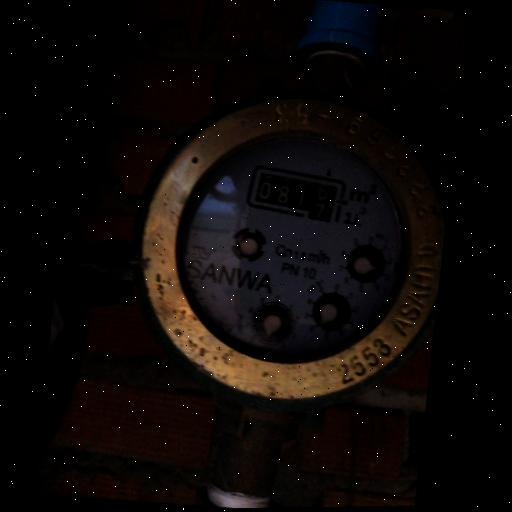0: (253, 172, 278, 204)
1: (291, 179, 318, 213)
6: (307, 181, 339, 223)
8: (271, 175, 299, 208)
border_water_meter_number: (242, 161, 349, 227)
